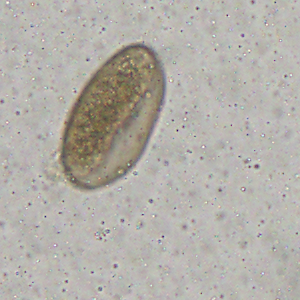Fasciola_hepatica_egg: (58, 41, 167, 192)
